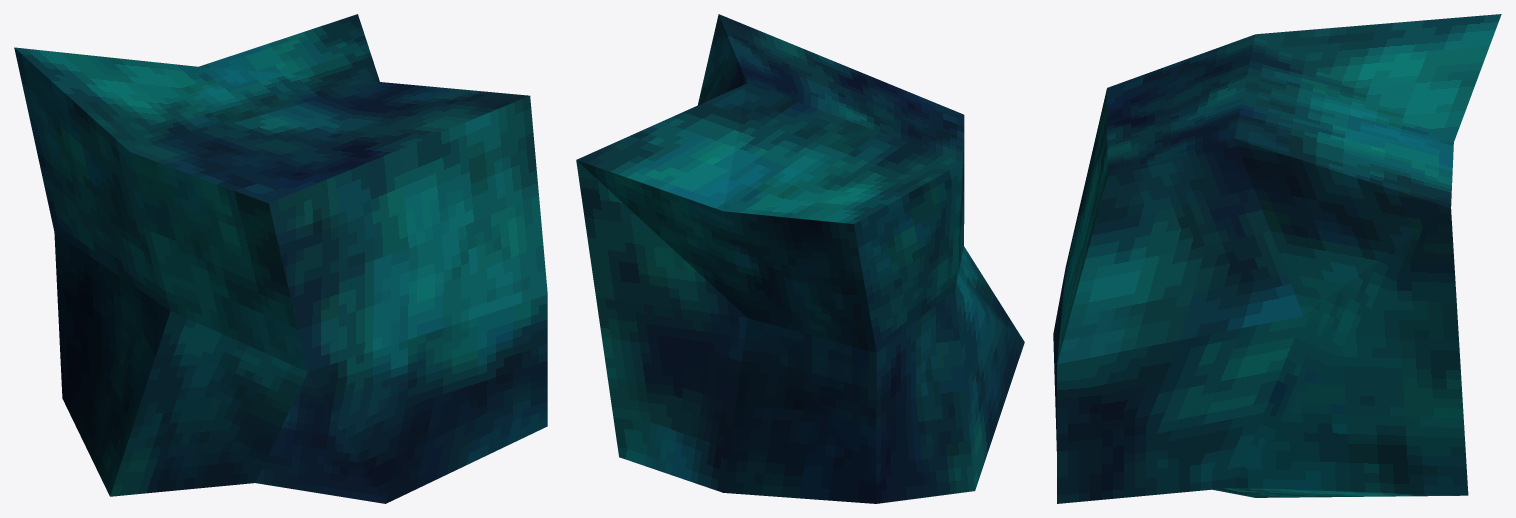
File: item_zombie_meat.glb
The picture shows the model from 3 angles, left to right: view 1: azimuth 30°, elevation 25°; view 2: azimuth 150°, elevation 25°; view 3: azimuth 270°, elevation 25°; orthographic projection. The views are drawn at different scales.
Parts seen in each view (by area): view 1: FleshChunk_1; view 2: FleshChunk_1; view 3: FleshChunk_1.
Part boxes in pixels (box(x1,y1,x2,y2)): FleshChunk_1: box(14, 14, 547, 503); FleshChunk_1: box(576, 14, 1024, 503); FleshChunk_1: box(1053, 14, 1501, 503).
Bounding box in the file's own units: 0.2139 × 0.227 × 0.226.
Materials: 1 (1 with a texture image).
